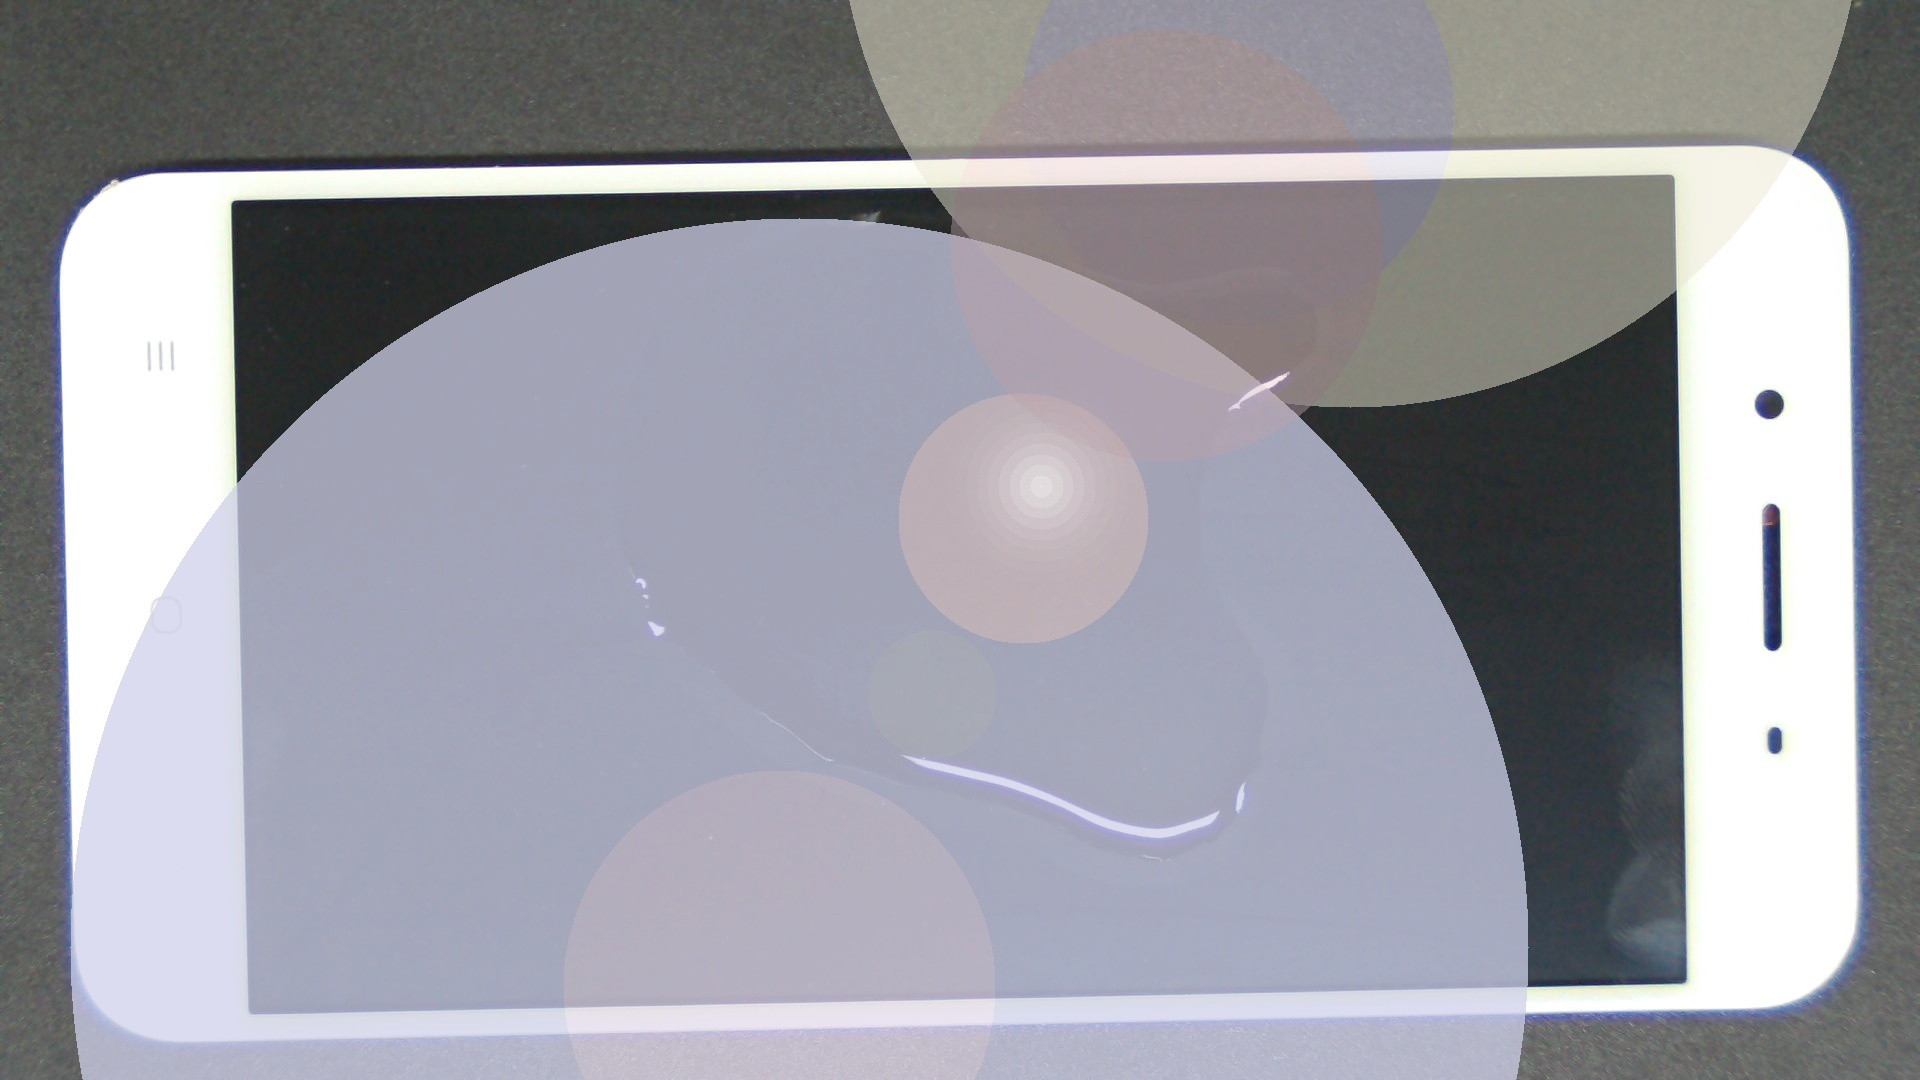oil: (438, 105, 1311, 319)
